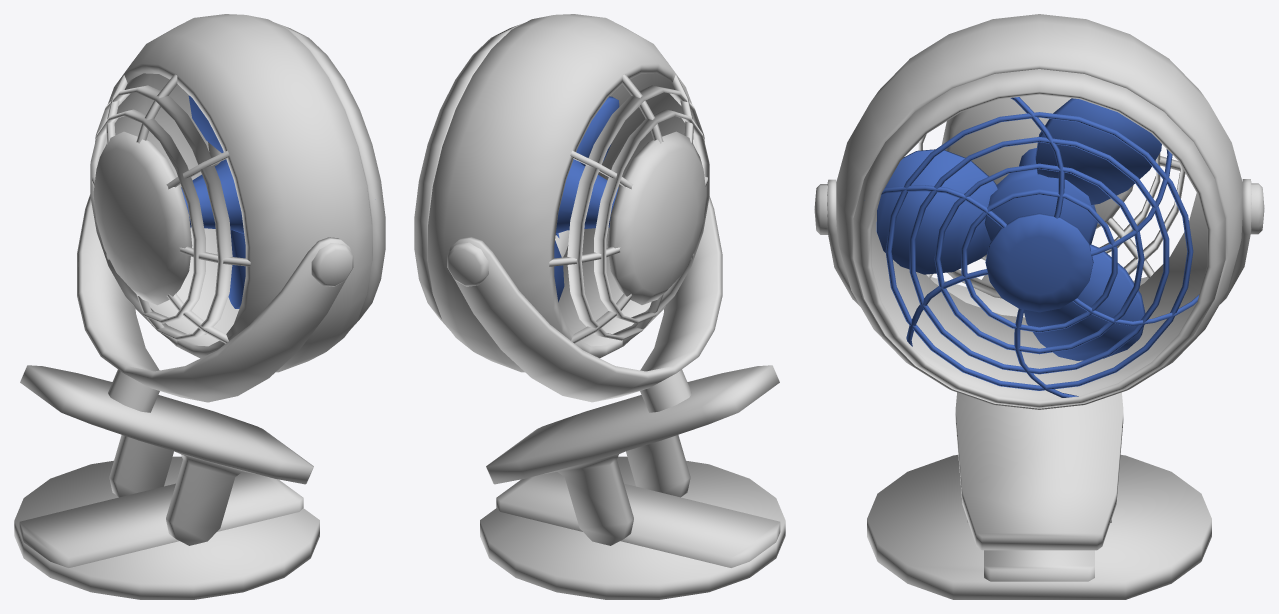
File: Fan.fbx
3 views of the same model, side by side, from view 1: azimuth 30°, elevation 25°; view 2: azimuth 150°, elevation 25°; view 3: azimuth 270°, elevation 25° (orthographic). The views are drawn at different scales.
Visible parts, largest first — view 1: Fan; view 2: Fan; view 3: Fan.
Part boxes in pixels (x1=…): Fan: x1=14, y1=14, x2=385, y2=599; Fan: x1=414, y1=14, x2=785, y2=599; Fan: x1=814, y1=14, x2=1264, y2=599.
Size of the model in its own units: 14.76 by 20 by 13.
